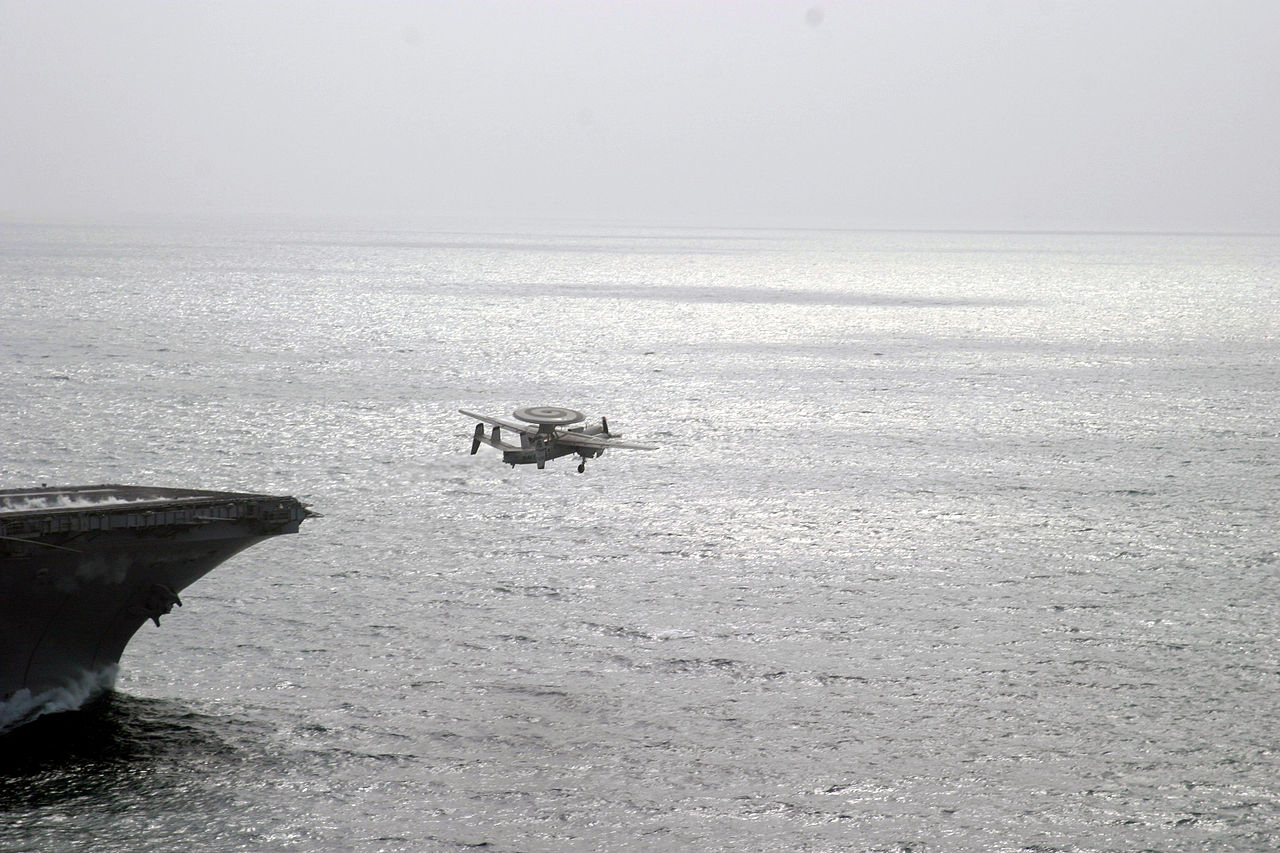E2: (458, 405, 659, 473)
